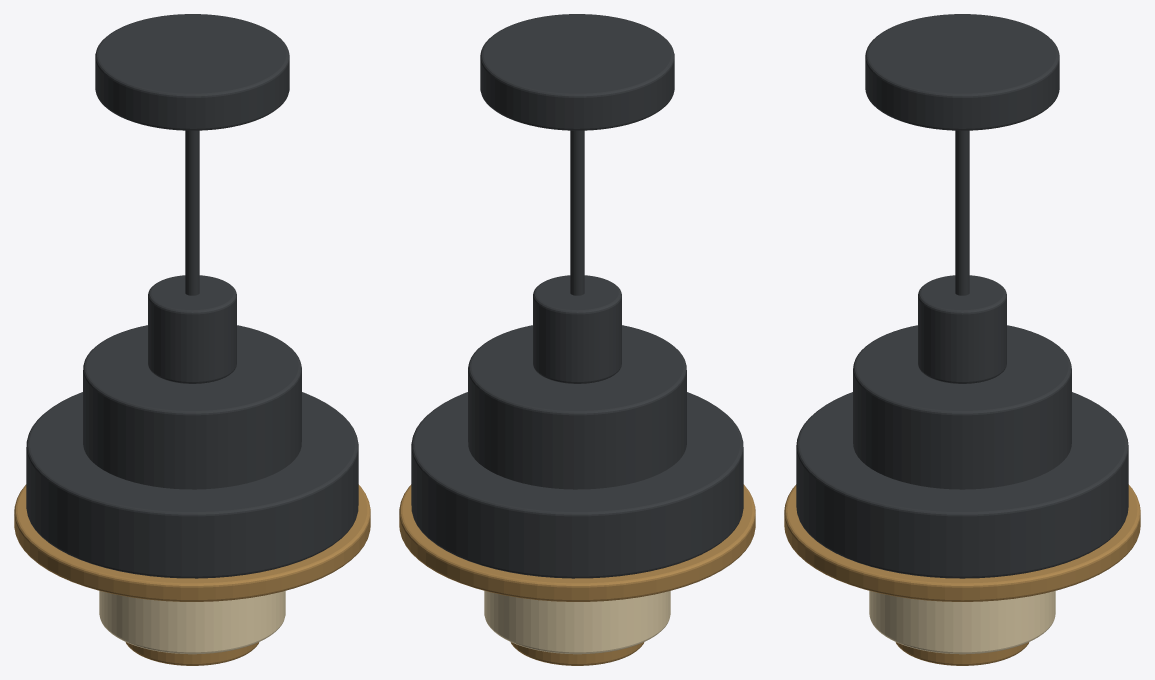
Rendered from cafe-pendant-lamp-01--short-cable.glb.
3 renders of one model, left to right at view 1: azimuth 30°, elevation 25°; view 2: azimuth 150°, elevation 25°; view 3: azimuth 270°, elevation 25°, orthographic.
Visible parts, largest first — view 1: cafe-pendant-lamp-01--short-cable; view 2: cafe-pendant-lamp-01--short-cable; view 3: cafe-pendant-lamp-01--short-cable.
Boxes of the visible parts, bbox=[...] form: cafe-pendant-lamp-01--short-cable: bbox=[14, 14, 370, 665]; cafe-pendant-lamp-01--short-cable: bbox=[399, 14, 755, 665]; cafe-pendant-lamp-01--short-cable: bbox=[784, 14, 1140, 665].
Size of the model in its own units: 0.44 by 0.795 by 0.44.
